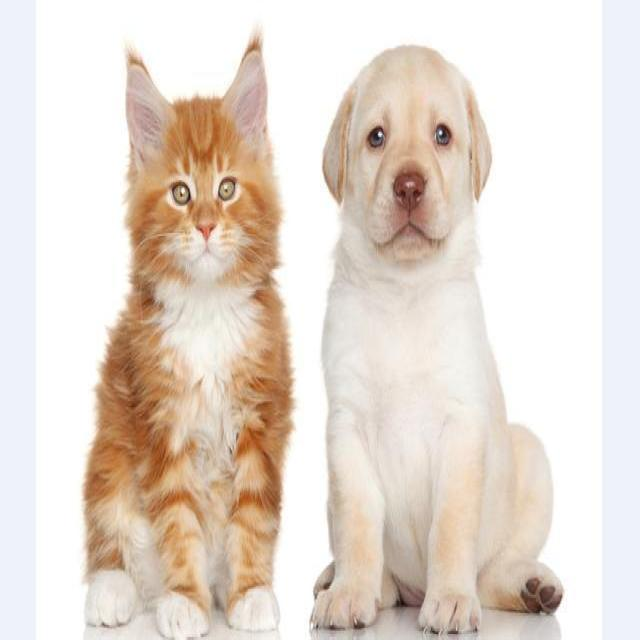cat: (105, 39, 296, 325)
dog: (307, 45, 519, 304)
